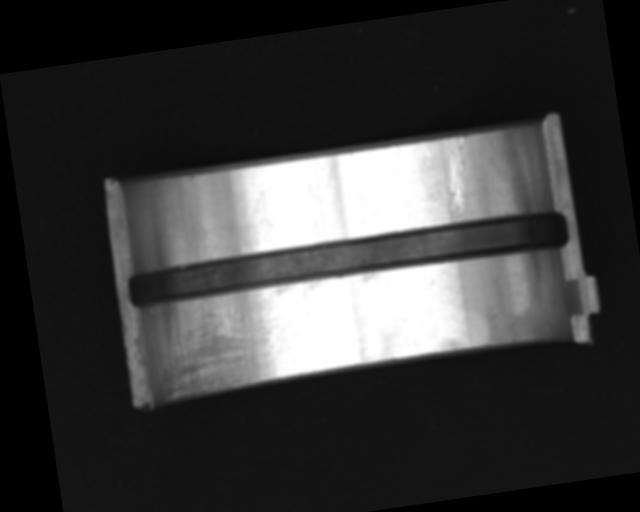gap: (126, 208, 571, 313)
nick: (439, 133, 476, 215)
scratch: (149, 284, 305, 404)
